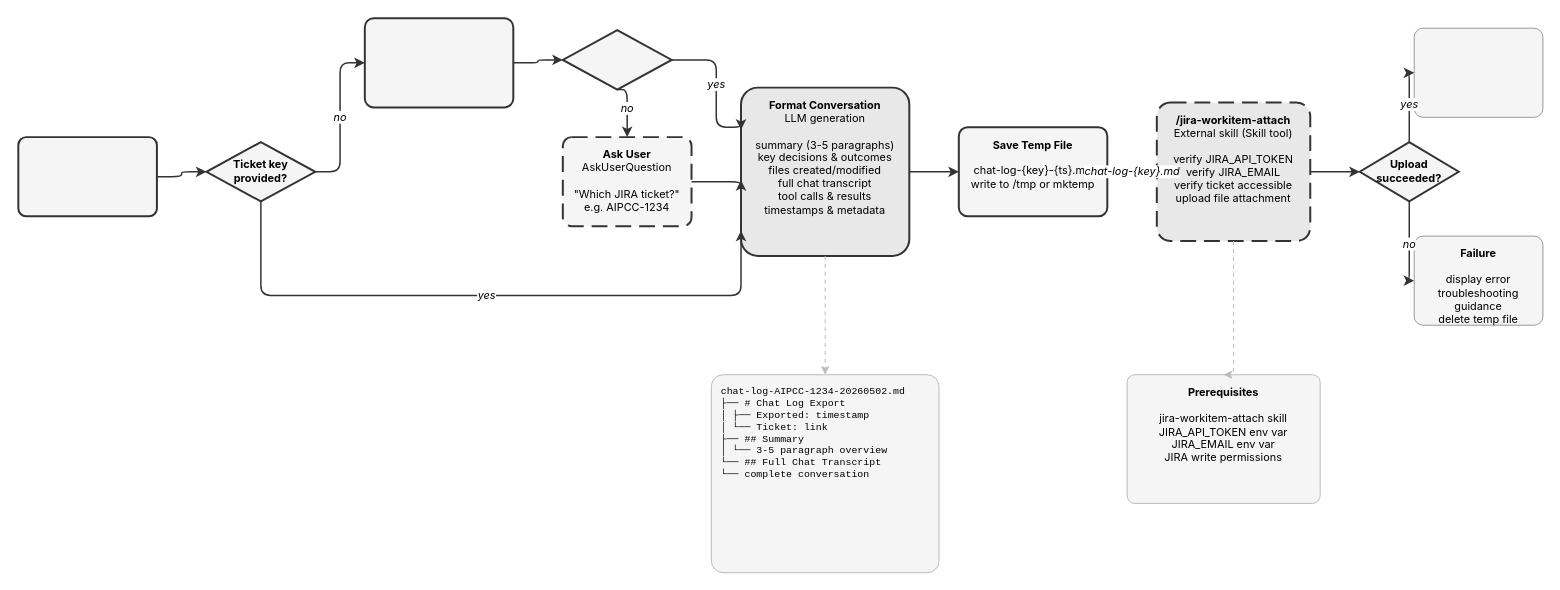
Some shapes in this 1560 by 590 pixel diagram are drawn without their labels. The box of each missing label's shape, as (x1, y1, x2, y2) in pixels:
/jira-upload-chat-log JIRA ticket key (optional): (17, 136, 157, 217)
Found in context?: (561, 29, 672, 90)
Scan Context search conversation for JIRA refs [A-Z]+-\d+: (363, 17, 514, 108)
Success confirm attachment direct ticket link delete temp file: (1413, 27, 1543, 117)
